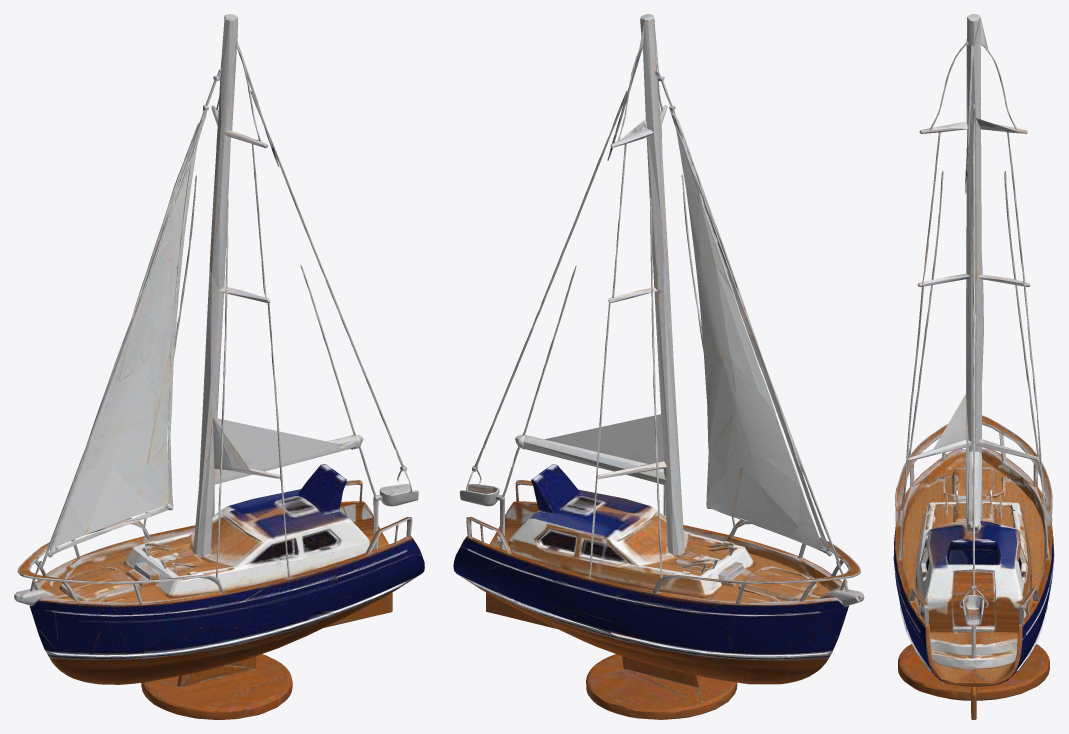
The model's file is token_boat.glb.
3 views of the same model, side by side, from view 1: azimuth 30°, elevation 25°; view 2: azimuth 150°, elevation 25°; view 3: azimuth 270°, elevation 25° (orthographic).
Bounding box in the file's own units: 1.19 × 1.9 × 0.42.
1 material, 1 textured.
